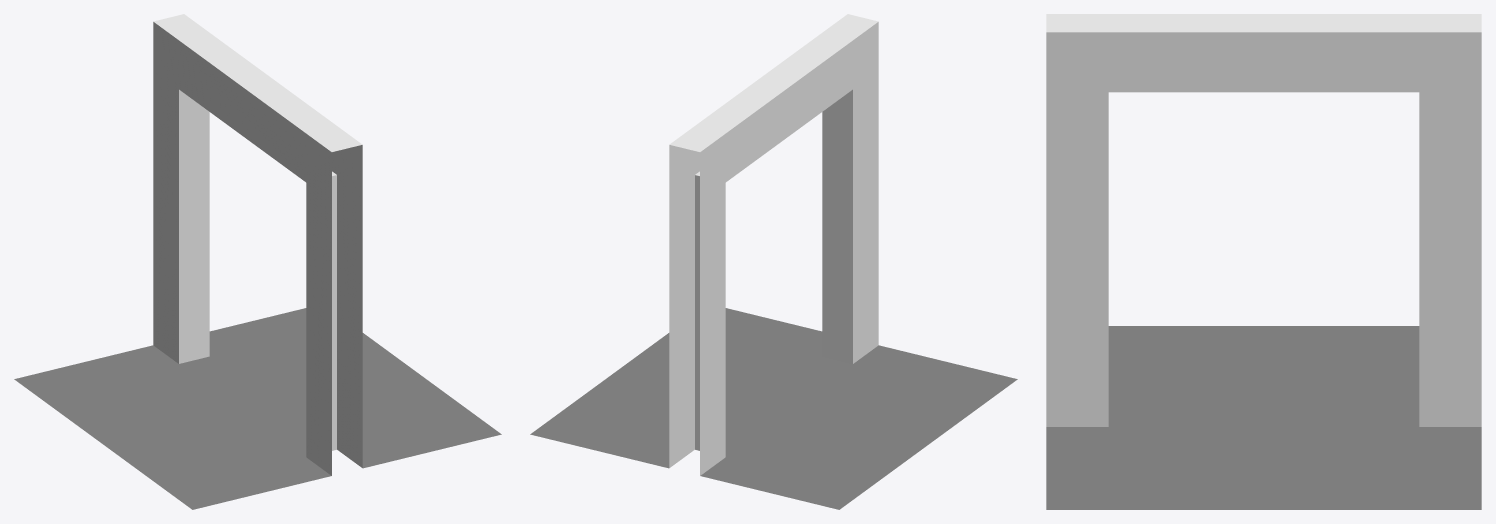
File: I_Wall_Straight_Elevator.fbx
3 renders of one model, left to right at view 1: azimuth 30°, elevation 25°; view 2: azimuth 150°, elevation 25°; view 3: azimuth 270°, elevation 25°, orthographic. The views are drawn at different scales.
Visible parts, largest first — view 1: I_Wall_Straight_Elevator; view 2: I_Wall_Straight_Elevator; view 3: I_Wall_Straight_Elevator.
Boxes of the visible parts, box(x1,y1,x2,y2) form: I_Wall_Straight_Elevator: box(14, 14, 501, 509); I_Wall_Straight_Elevator: box(530, 14, 1017, 509); I_Wall_Straight_Elevator: box(1046, 14, 1481, 509).
Size of the model in its own units: 200 by 200 by 200.
